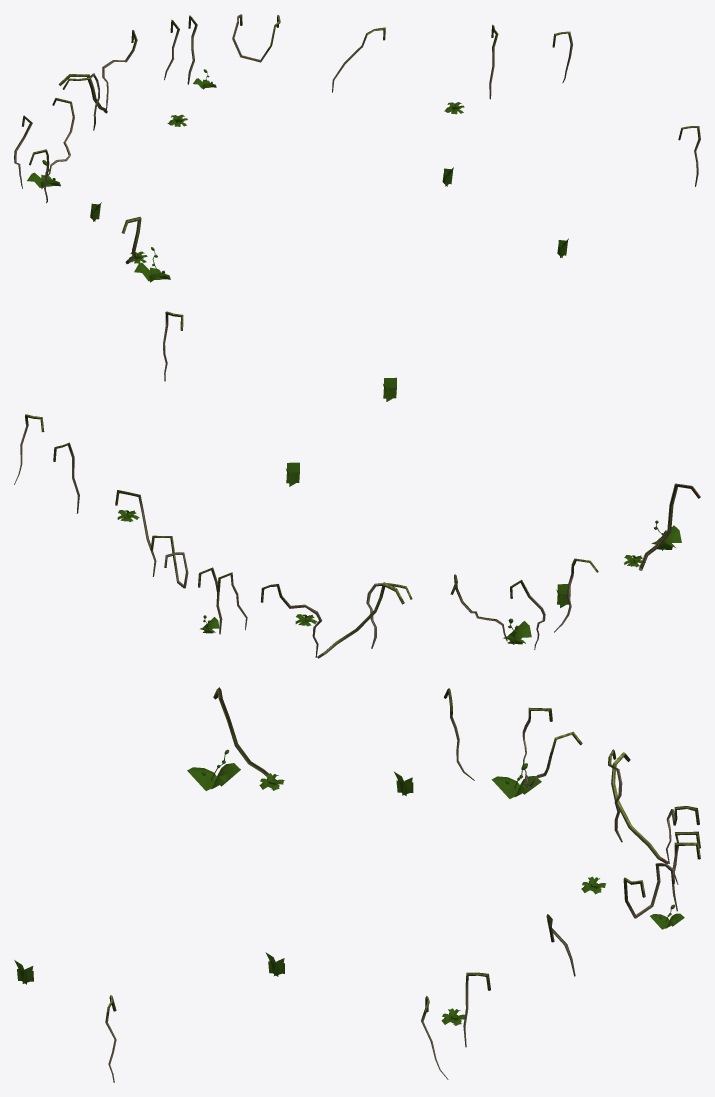
Rendered from ZhiWu_temp.FBX.
The picture shows the model from 3 angles, top to bottom: view 1: azimuth 30°, elevation 25°; view 2: azimuth 150°, elevation 25°; view 3: azimuth 270°, elevation 25°; orthographic projection. The views are drawn at different scales.
Parts seen in each view (by area): view 1: ZhiWu01; view 2: ZhiWu01; view 3: ZhiWu01.
Boxes of the visible parts, x1=… form: ZhiWu01: x1=14, y1=14, x2=700, y2=282; ZhiWu01: x1=14, y1=311, x2=700, y2=658; ZhiWu01: x1=14, y1=687, x2=700, y2=1082.
Bounding box in the file's own units: 1170 × 142 × 1052.
